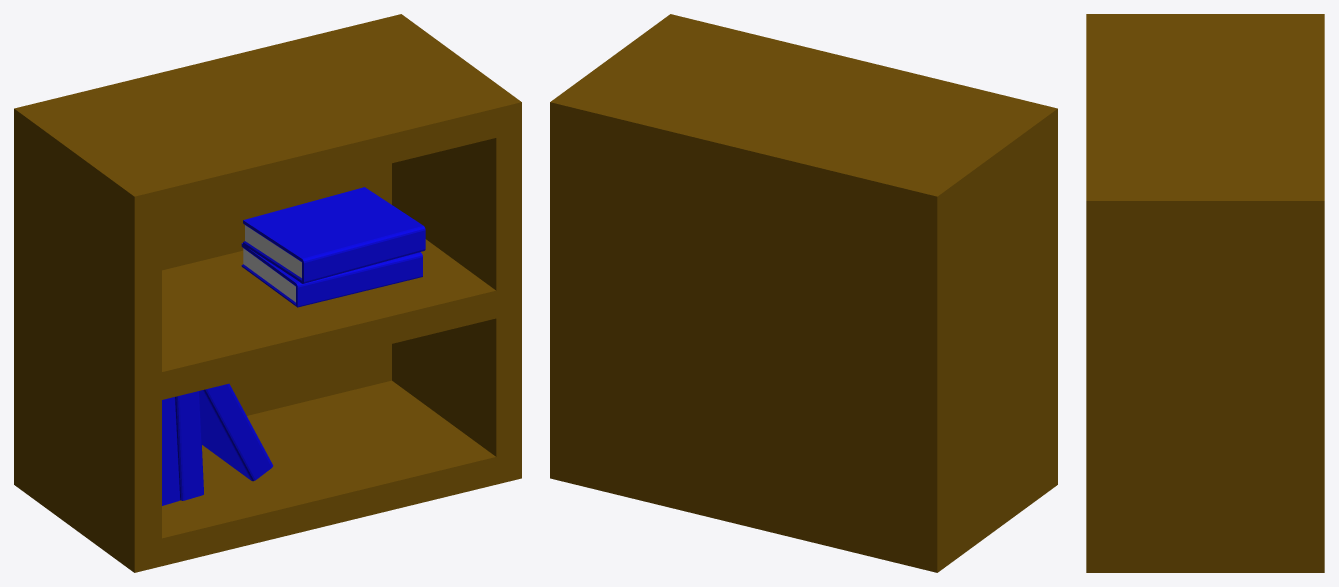
File: bookshelf-few-books.fbx
3 views of the same model, side by side, from view 1: azimuth 30°, elevation 25°; view 2: azimuth 150°, elevation 25°; view 3: azimuth 270°, elevation 25° (orthographic).
Parts seen in each view (by area): view 1: bookshelf-few-books; view 2: bookshelf-few-books; view 3: bookshelf-few-books.
Part boxes in pixels (box(x1,y1,x2,y2)): bookshelf-few-books: box(14, 14, 521, 572); bookshelf-few-books: box(550, 14, 1057, 572); bookshelf-few-books: box(1086, 14, 1324, 572).
Bounding box in the file's own units: 60 × 55.69 × 32.31.
